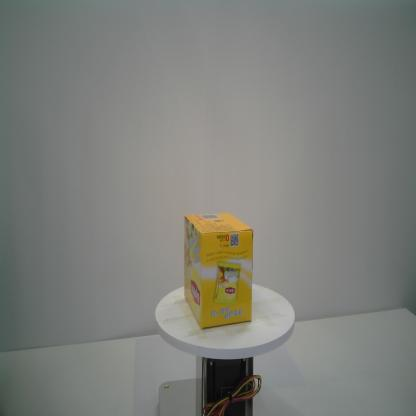Instant Drink: (182, 210, 254, 331)
